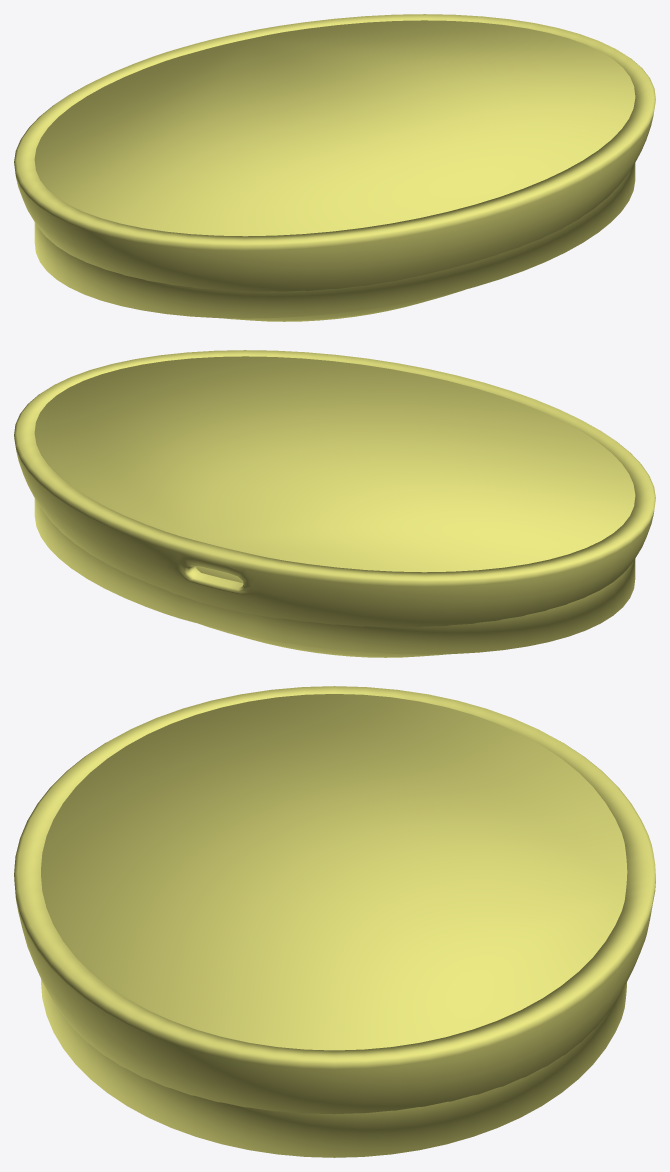
The picture shows the model from 3 angles, top to bottom: view 1: azimuth 30°, elevation 25°; view 2: azimuth 150°, elevation 25°; view 3: azimuth 270°, elevation 25°; orthographic projection. The views are drawn at different scales.
Visible parts, largest first — view 1: Mask, OV 43; view 2: Mask, OV 43; view 3: Mask, OV 43.
Boxes of the visible parts, x1,y1,x2,y2 form: Mask: (34, 20, 635, 318); OV 43: (14, 14, 655, 321); Mask: (34, 356, 635, 654); OV 43: (14, 350, 655, 657); Mask: (41, 694, 627, 1157); OV 43: (14, 686, 655, 1114).
Size of the model in its own units: 45.89 by 12.52 by 33.05.
